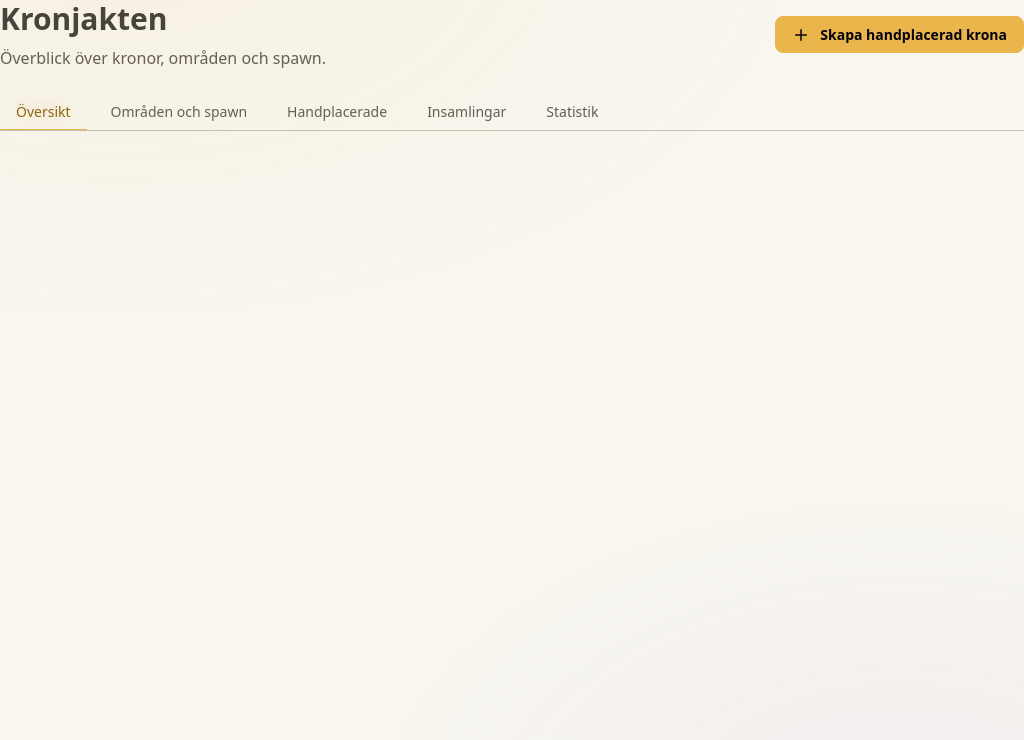
it: Kronjakt point form — collectable redesign › prefills the headcount from an existing limited point on edit
What coordinates should you click on to do the following:
click the tab "Handplacerade"
I would click on:
 (337, 112)
Its box is [271,94,403,130].
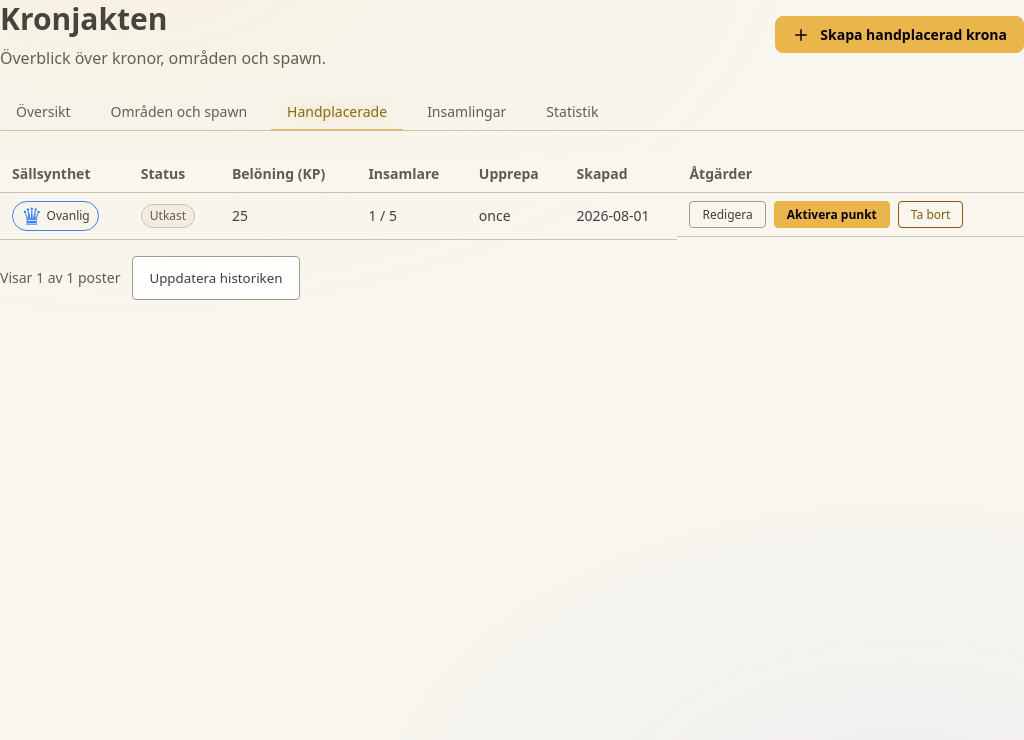
What coordinates should you click on to do the following:
click the button "Redigera"
I would click on:
 (728, 214)
Its box is [689,200,766,228].
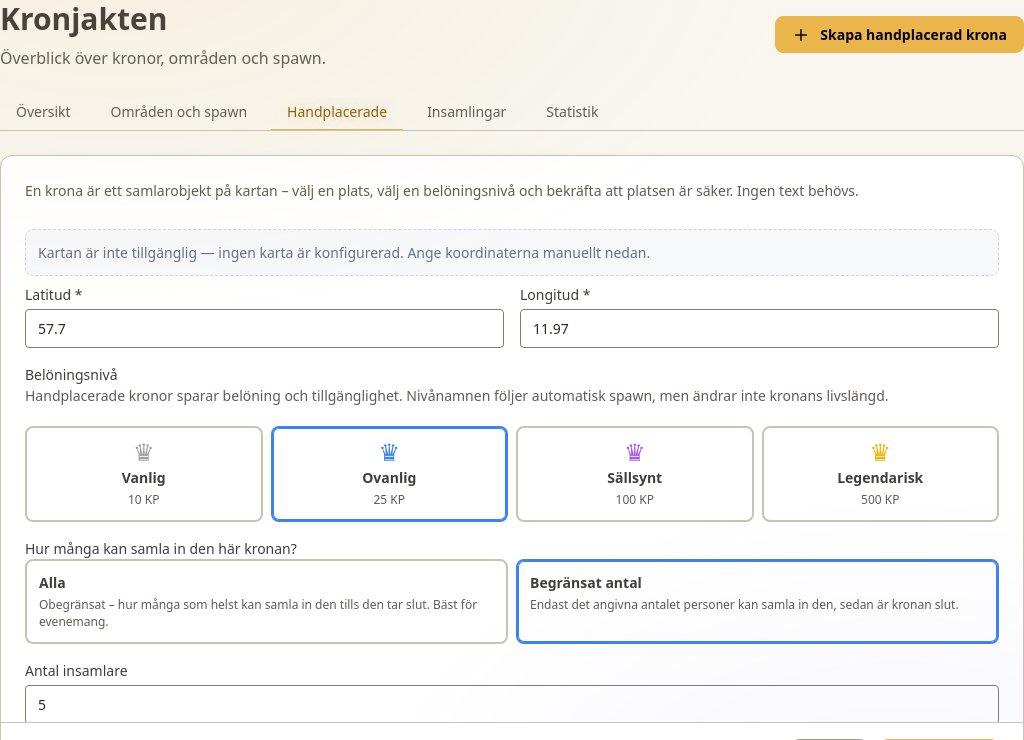
Check: the number field labelled "Antal insamlare" holds "5", box [25,684,999,724]
